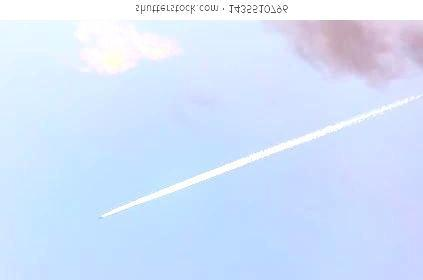Plane: (74, 156, 303, 228)
